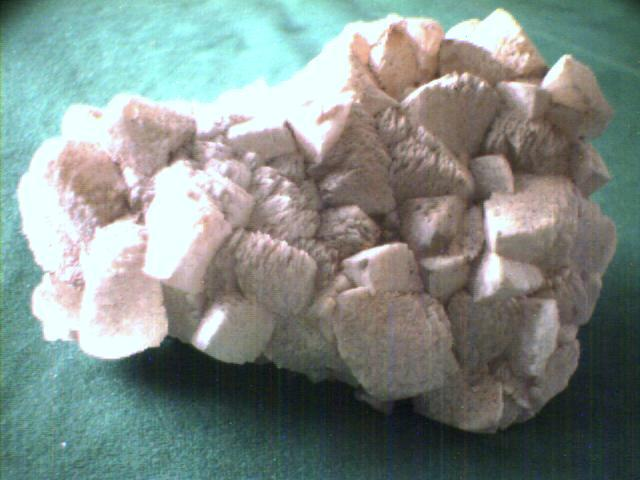calcite: (17, 9, 617, 433)
